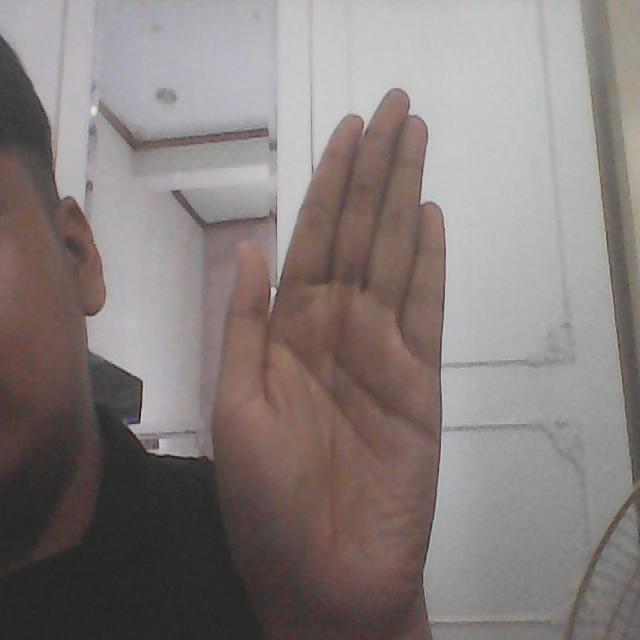hand: (214, 84, 449, 640)
